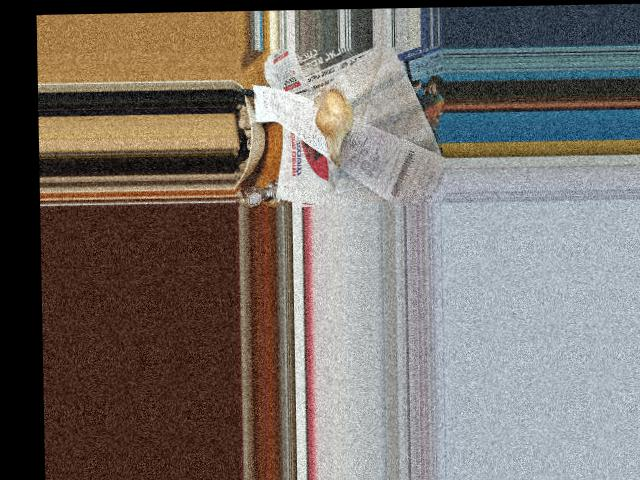onion: (317, 89, 352, 145)
